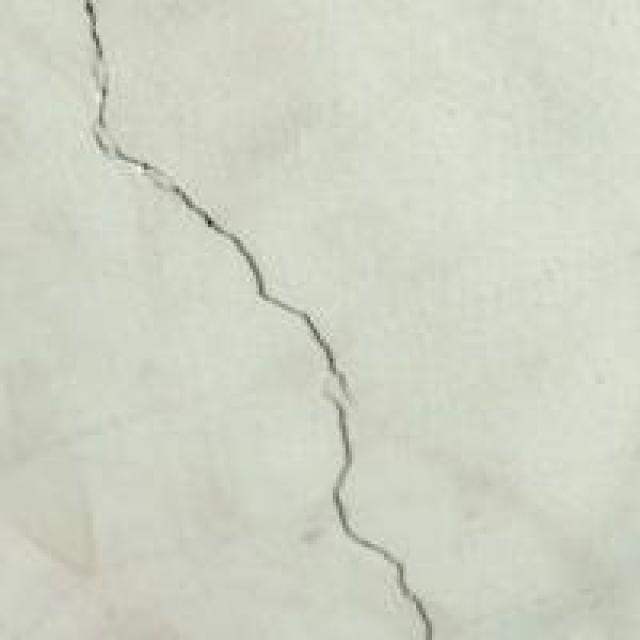Crack: (58, 0, 470, 637)
